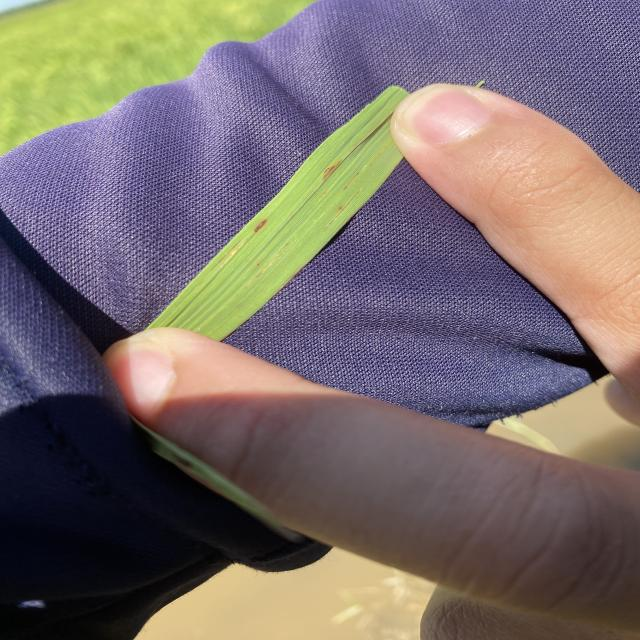Dom nau: (254, 219, 267, 232)
